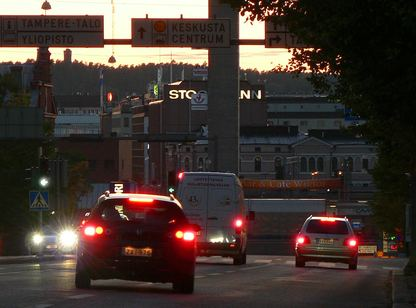ambulance: (169, 170, 250, 262)
car: (70, 187, 201, 293), (295, 212, 359, 271), (33, 224, 73, 253)
